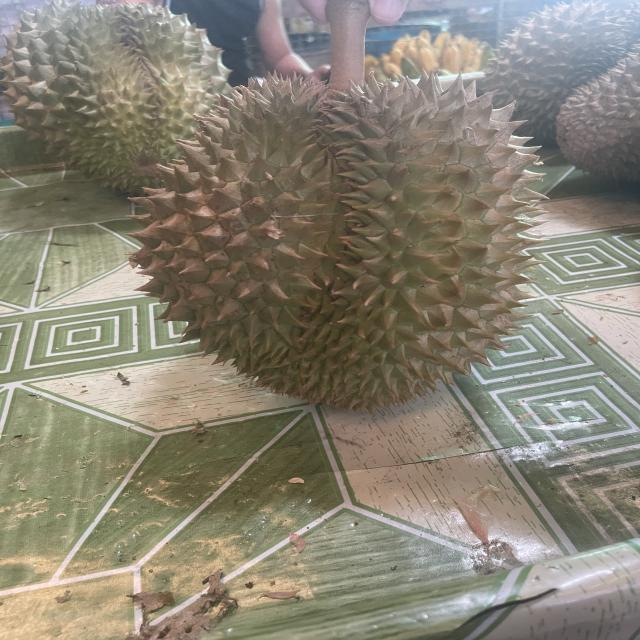mature: (136, 86, 556, 414), (4, 6, 247, 191), (472, 6, 640, 176)
